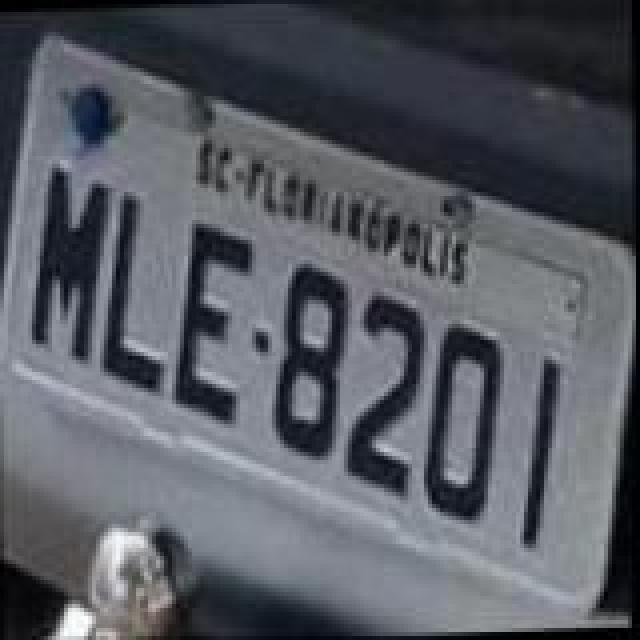1: (510, 354, 574, 550)
2: (334, 288, 430, 504)
8: (264, 256, 356, 460)
E: (164, 210, 260, 434)
L: (92, 186, 168, 402)
M: (16, 160, 116, 368)
O: (416, 320, 512, 528)
